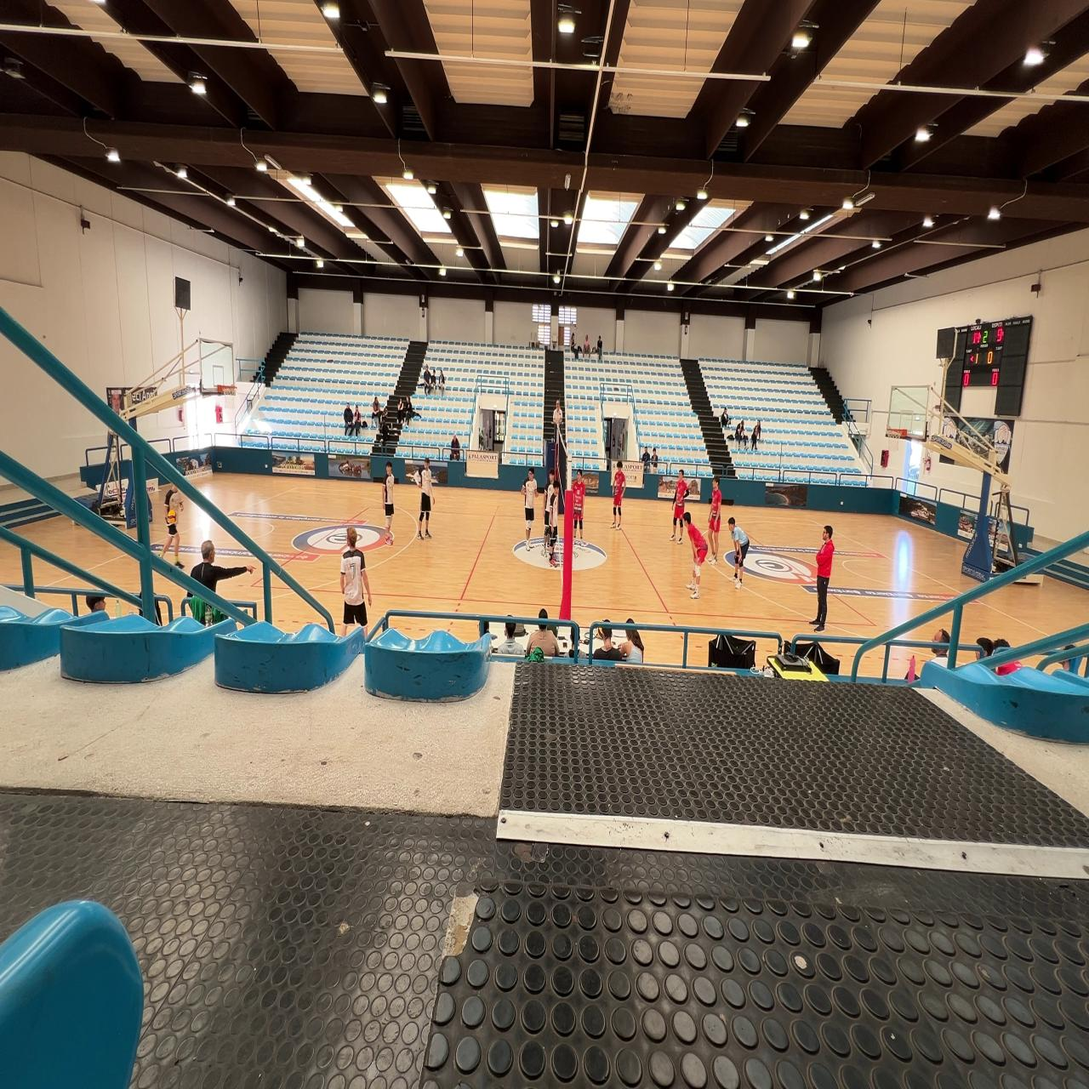ball: (167, 510, 177, 525)
